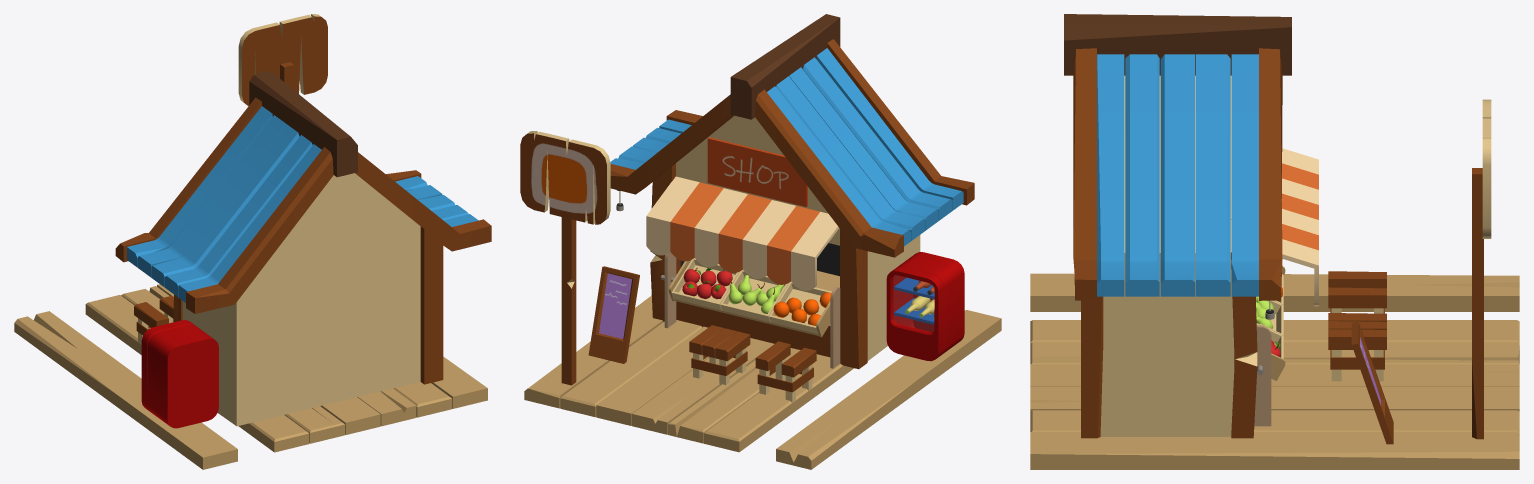
Rendered from Chinese_Shop_Scene1.fbx.
3 views of the same model, side by side, from view 1: azimuth 30°, elevation 25°; view 2: azimuth 150°, elevation 25°; view 3: azimuth 270°, elevation 25° (orthographic). The views are drawn at different scales.
Visible parts, largest first — view 1: Chinese_Shop_Scene1; view 2: Chinese_Shop_Scene1; view 3: Chinese_Shop_Scene1.
Part boxes in pixels (x1,y1,x2,y2): Chinese_Shop_Scene1: (14, 14, 491, 469); Chinese_Shop_Scene1: (520, 14, 1001, 469); Chinese_Shop_Scene1: (1030, 14, 1519, 469).
Size of the model in its own units: 11.73 by 12.51 by 10.4.
